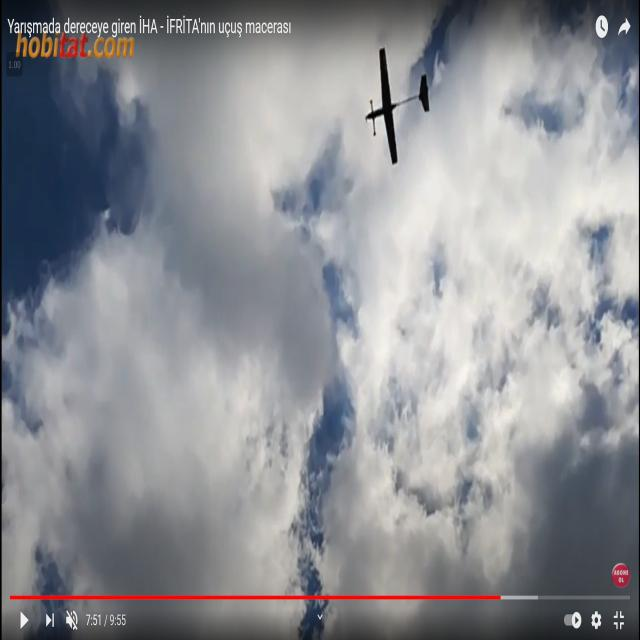iha: (395, 14, 399, 72)
